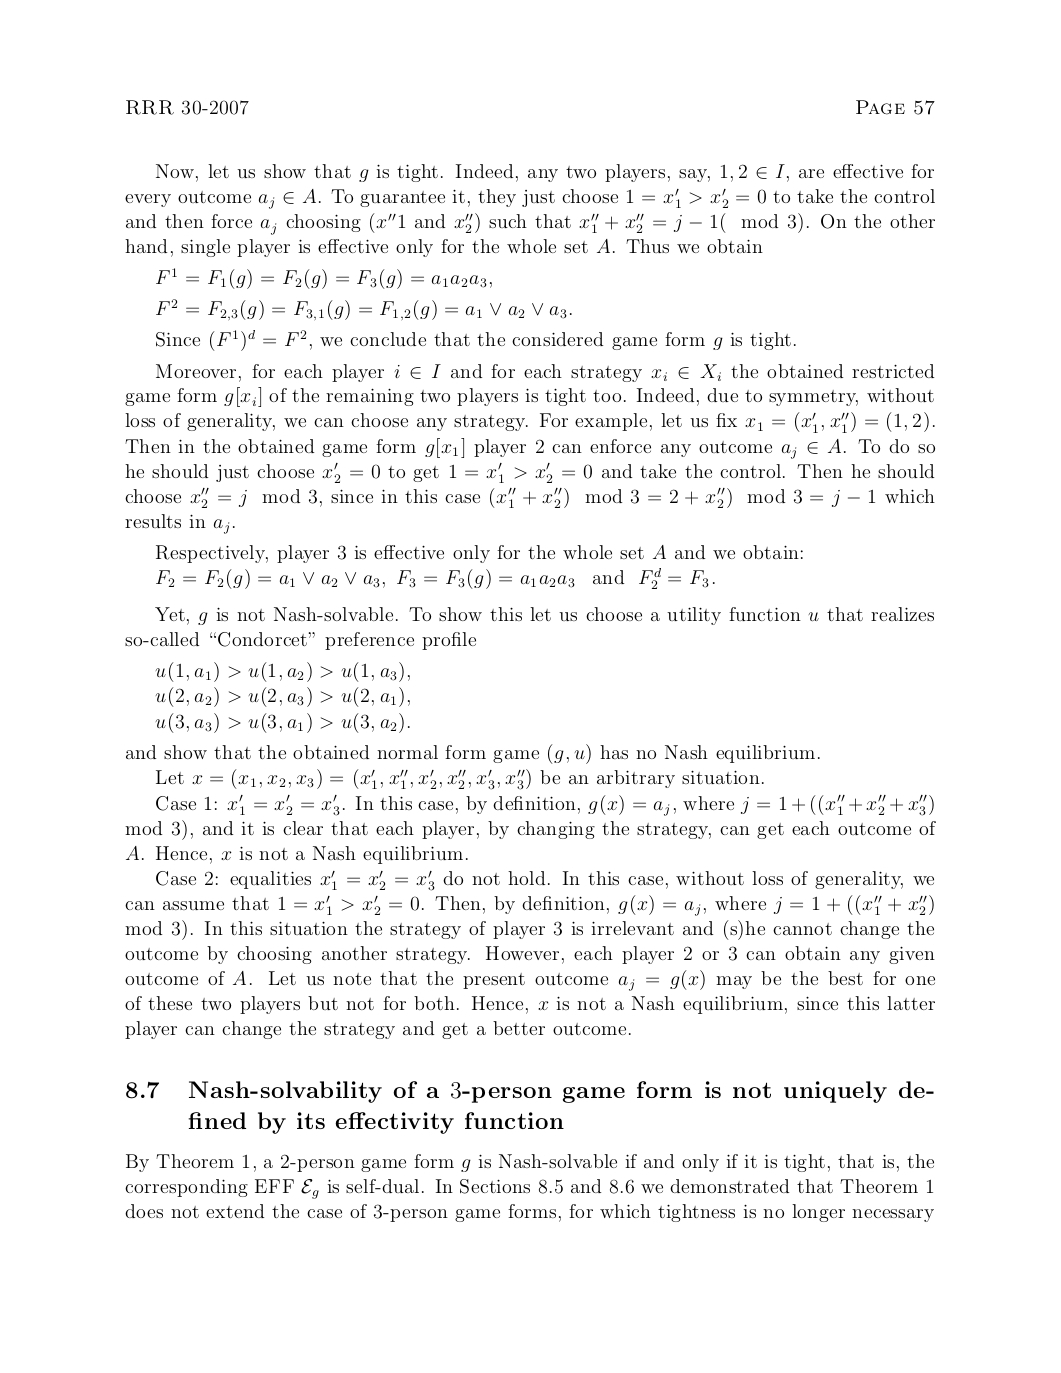formula: (156, 567, 714, 590), (156, 298, 571, 321), (156, 267, 491, 289), (155, 661, 409, 682), (155, 712, 409, 733), (155, 686, 409, 707)
